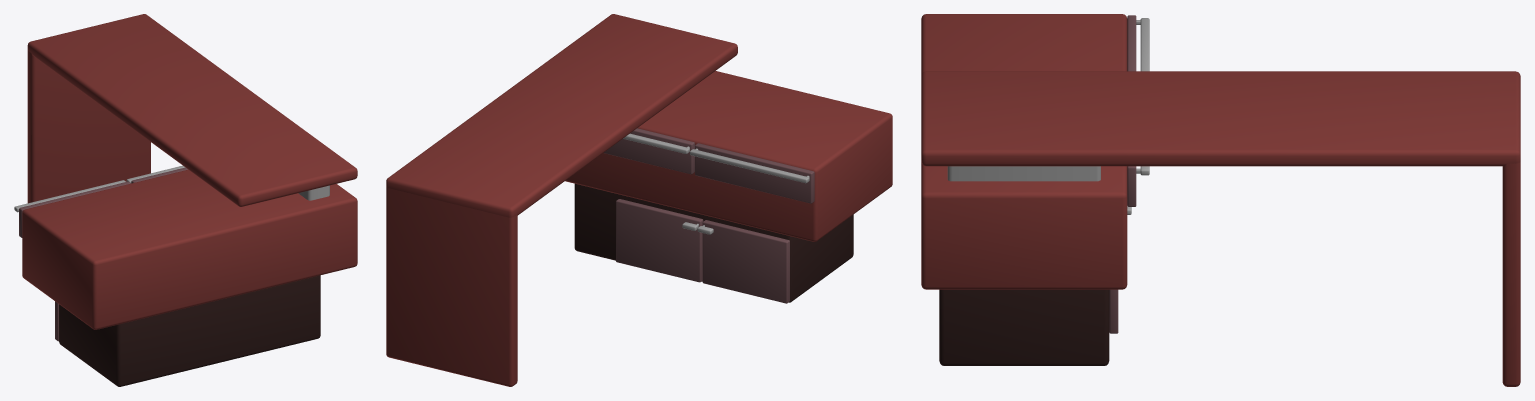
The model's file is Mesa_Diretor.fbx.
3 renders of one model, left to right at view 1: azimuth 30°, elevation 25°; view 2: azimuth 150°, elevation 25°; view 3: azimuth 270°, elevation 25°, orthographic. The views are drawn at different scales.
Parts seen in each view (by area): view 1: Mesa_Diretor; view 2: Mesa_Diretor; view 3: Mesa_Diretor.
Boxes of the visible parts, bbox=[...] form: Mesa_Diretor: bbox=[14, 14, 357, 386]; Mesa_Diretor: bbox=[386, 14, 892, 386]; Mesa_Diretor: bbox=[921, 14, 1520, 386].
Bounding box in the file's own units: 259 × 158 × 362.
